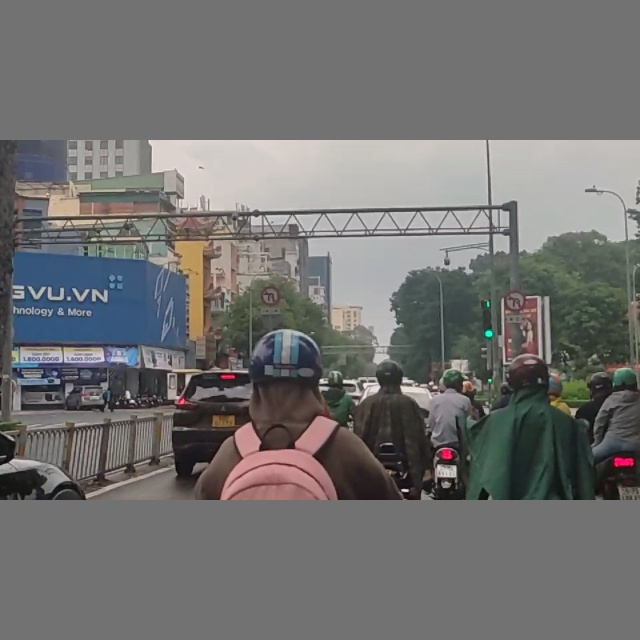P.124c: (505, 291, 524, 313), (261, 287, 281, 307)
